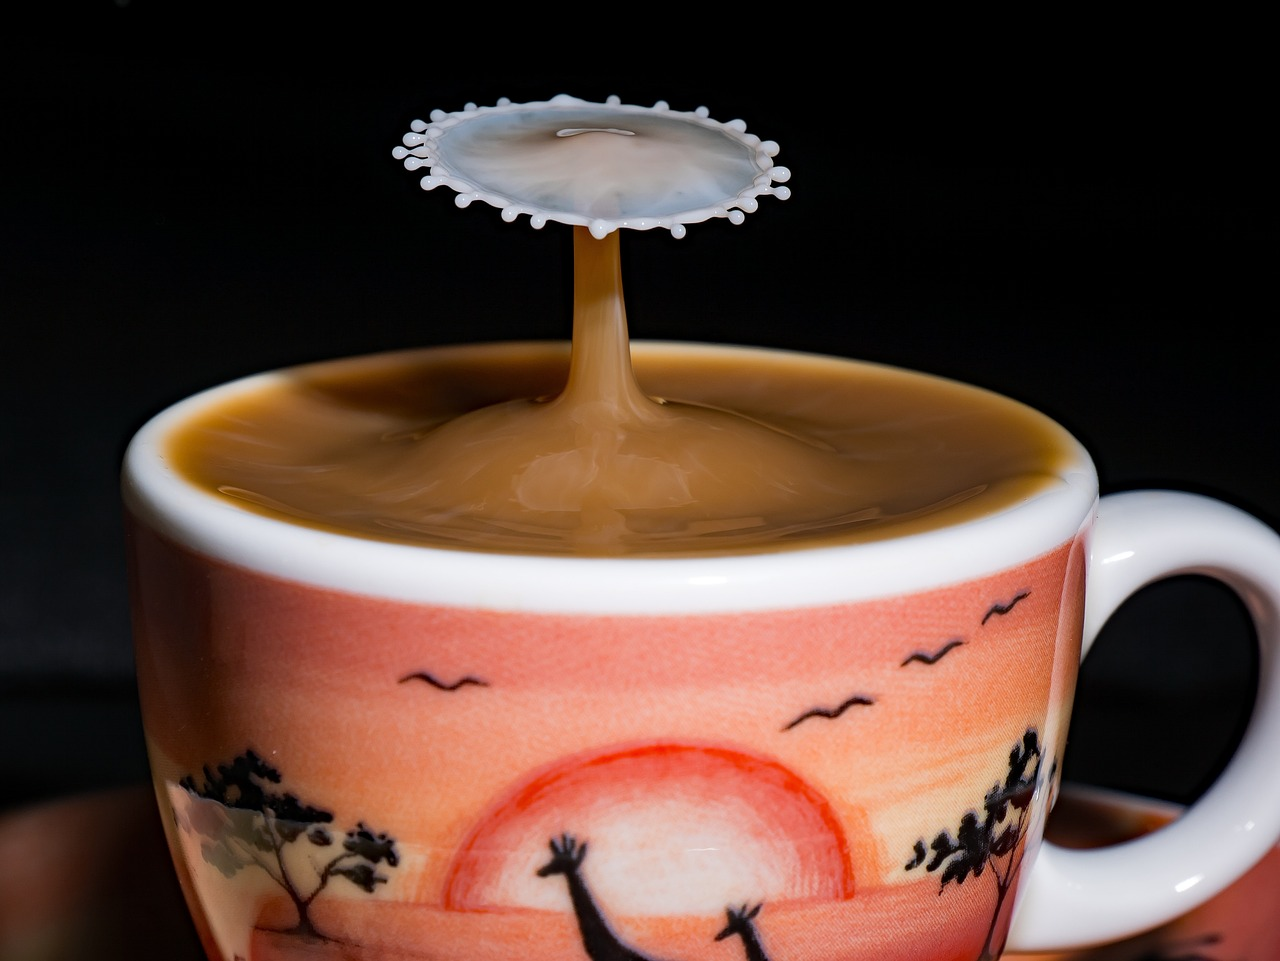mug: (104, 309, 1279, 918)
